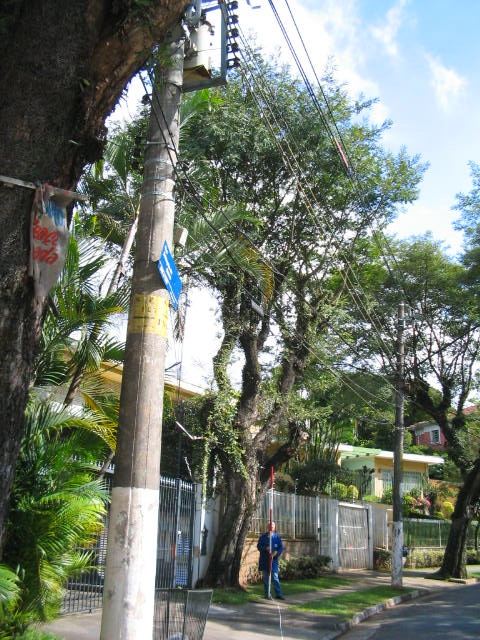crown: (174, 39, 429, 329)
stem: (195, 480, 266, 593), (428, 466, 480, 580)
stick: (260, 464, 280, 598)
tree: (173, 39, 432, 593), (353, 233, 479, 580)
